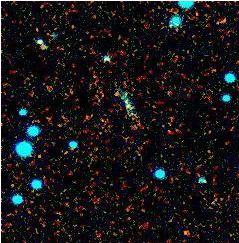star: (174, 223, 204, 243)
